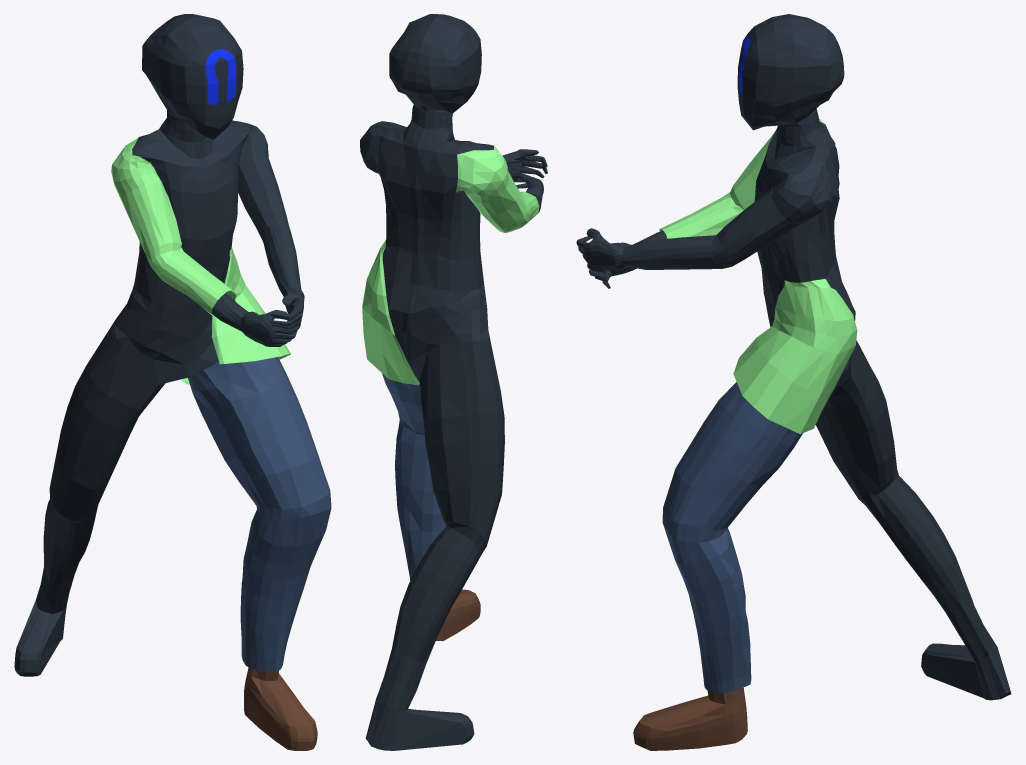
The model's file is Mar_WB_000002.obj.
3 renders of one model, left to right at view 1: azimuth 30°, elevation 25°; view 2: azimuth 150°, elevation 25°; view 3: azimuth 270°, elevation 25°, orthographic. The views are drawn at different scales.
Parts seen in each view (by area): view 1: Cube.000_Cube.001; view 2: Cube.000_Cube.001; view 3: Cube.000_Cube.001.
Boxes of the visible parts, x1,y1,x2,y2 form: Cube.000_Cube.001: [14, 14, 331, 750]; Cube.000_Cube.001: [360, 14, 547, 750]; Cube.000_Cube.001: [576, 14, 1011, 750].
Size of the model in its own units: 1.09 by 3.73 by 2.08.
